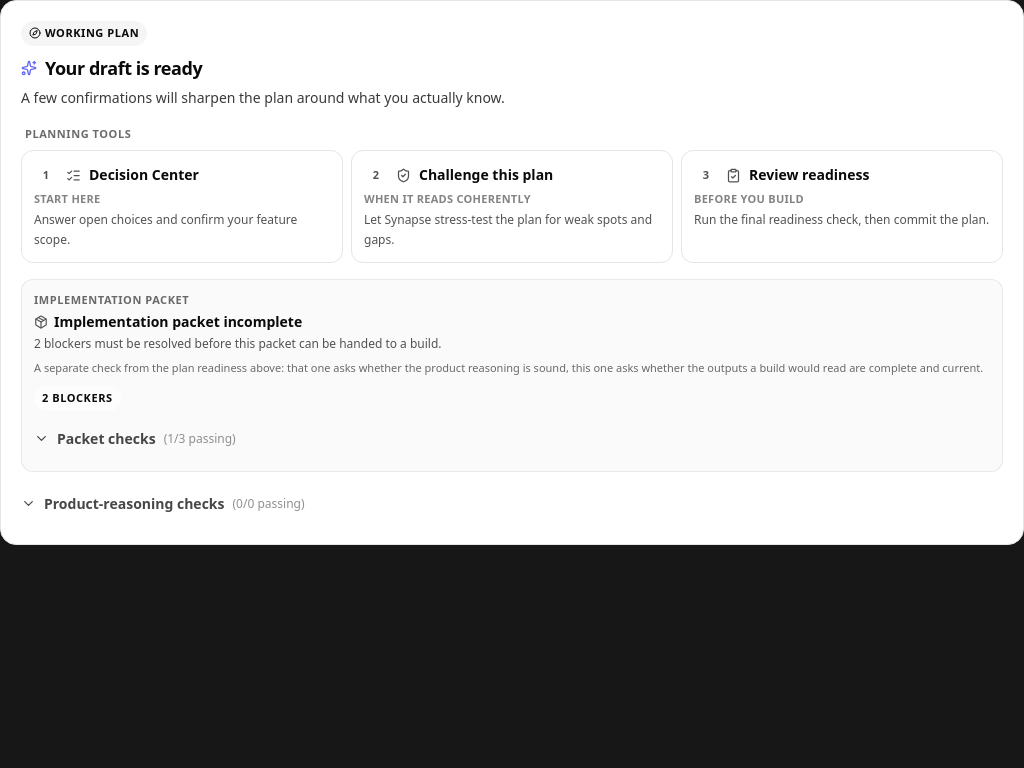
Test case: PlanningStateBar — build-packet state › counts packet criteria by blocking state, not by planning readiness
Expected: the text "(1/3 passing)" is shown, [164, 430, 236, 446]
Click the heading "Packet checks (1/3 passing)": click(135, 438) [34, 428, 236, 448]
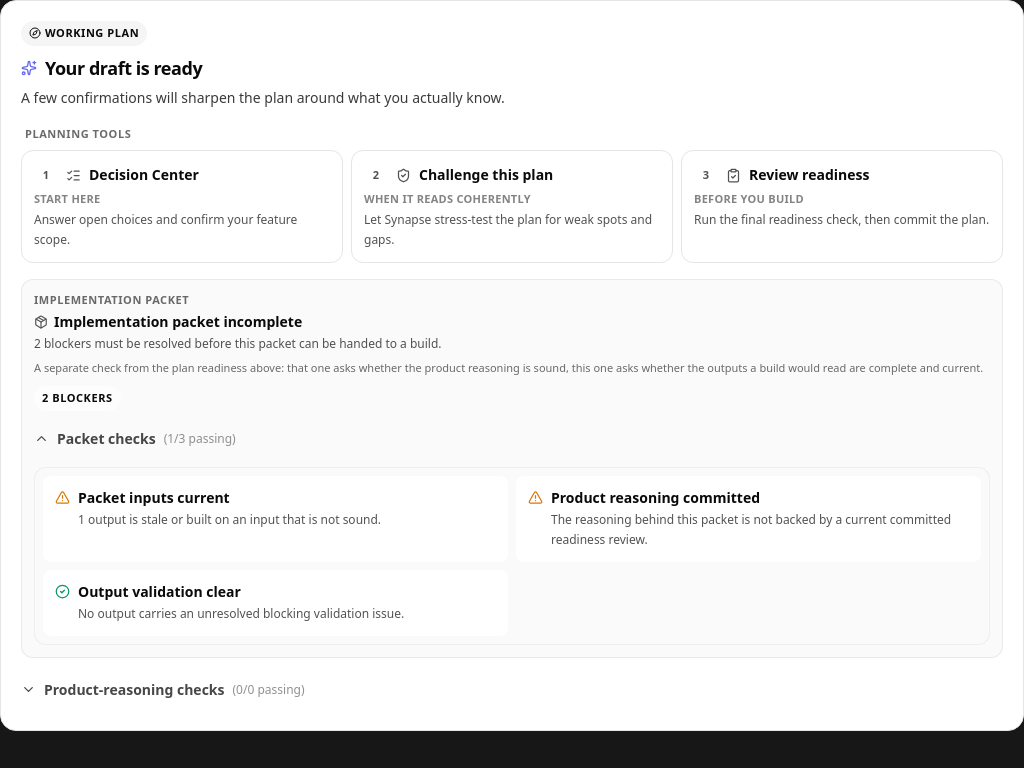
Expected: the text "Packet inputs current" is shown, [78, 488, 230, 506]
Expected: the text "Product reasoning committed" is shown, [551, 488, 760, 506]
